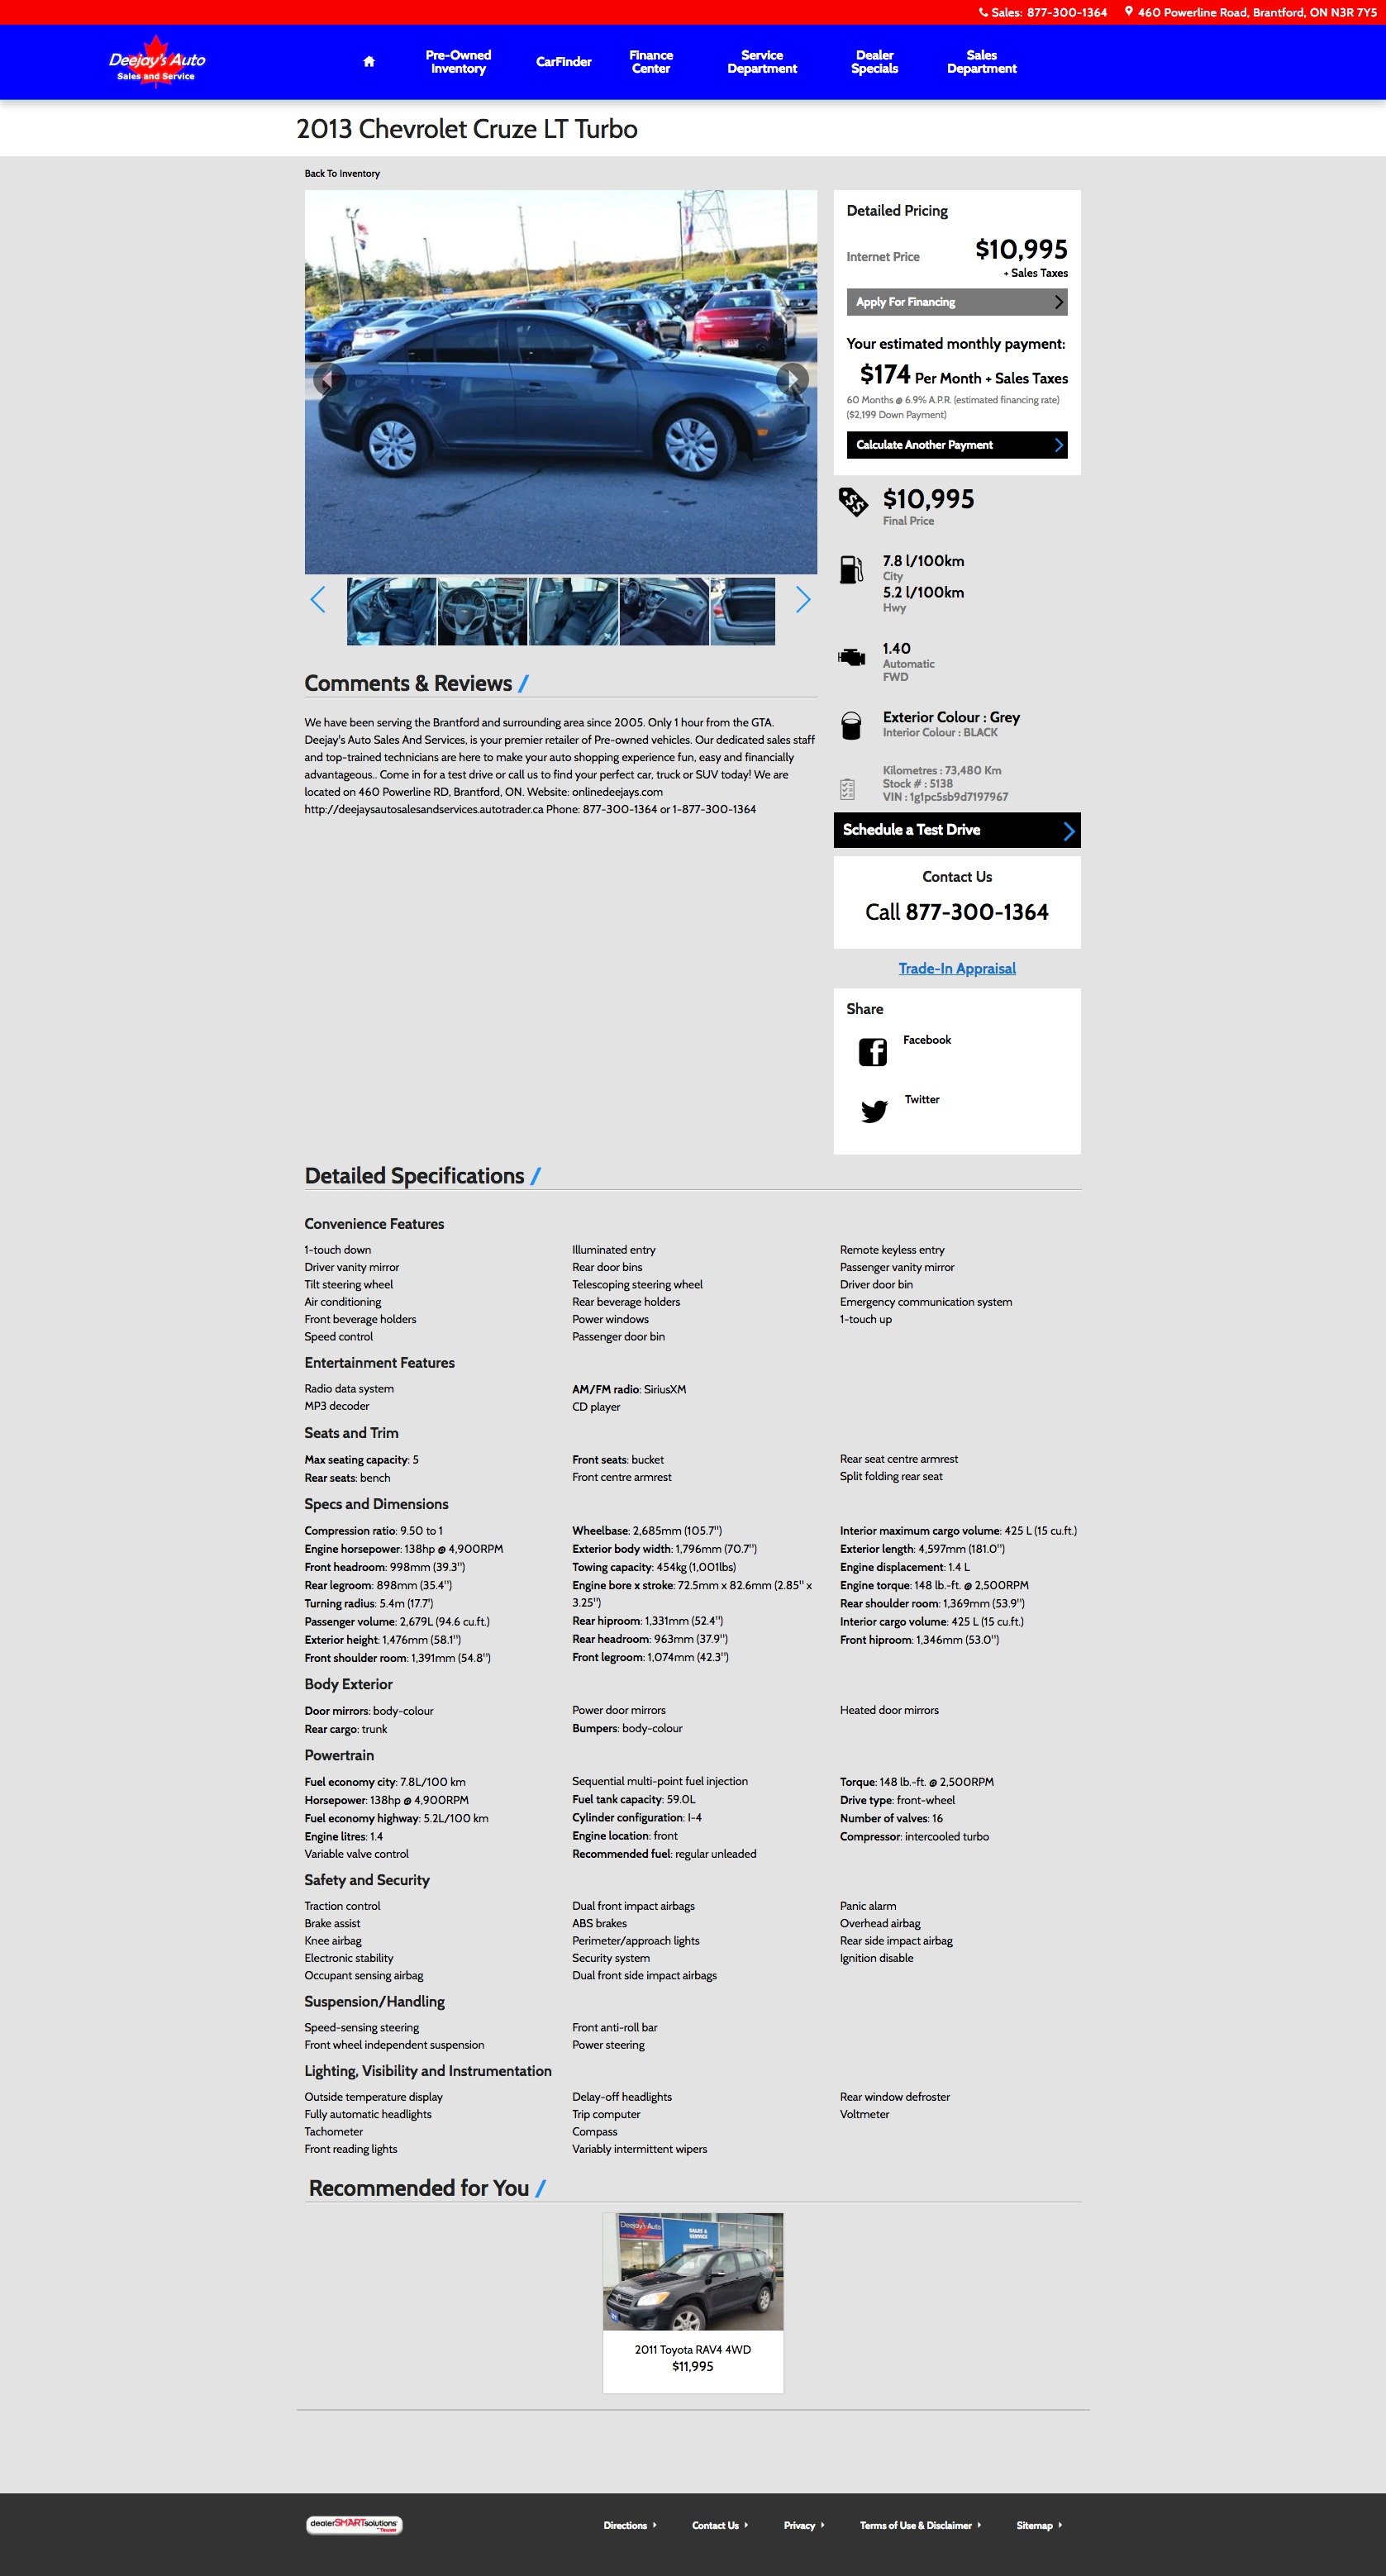car: (795, 585, 811, 612)
